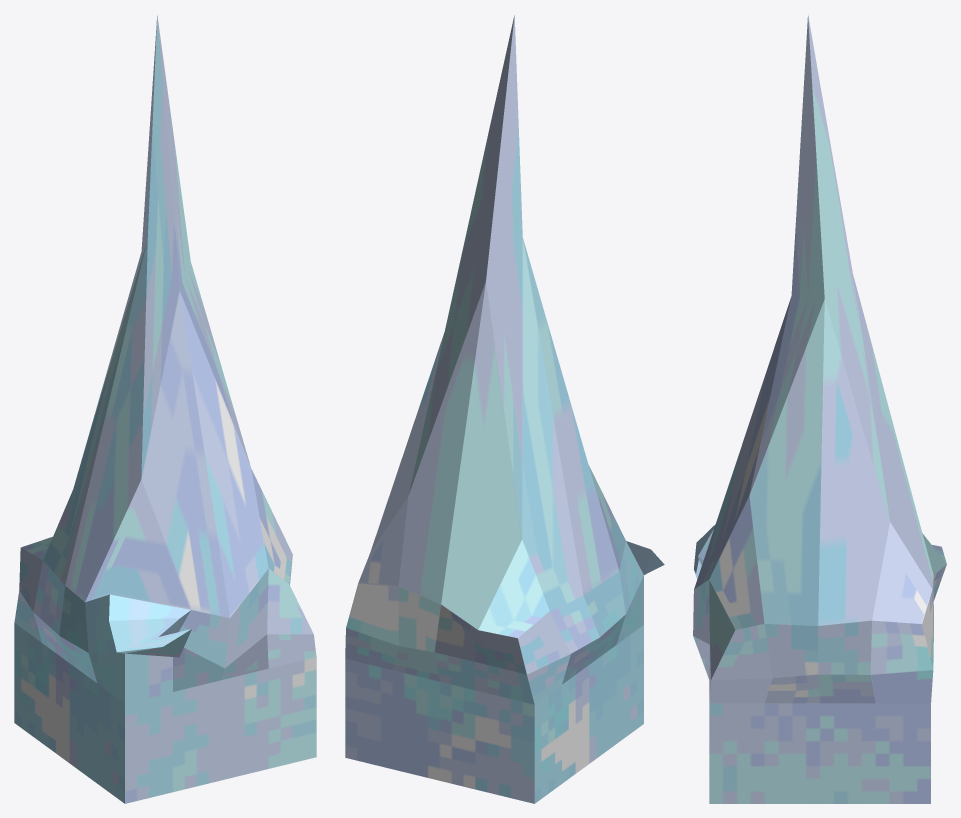
Rendered from SnolfIceSpike.fbx.
3 renders of one model, left to right at view 1: azimuth 30°, elevation 25°; view 2: azimuth 150°, elevation 25°; view 3: azimuth 270°, elevation 25°, orthographic.
Parts seen in each view (by area): view 1: Cube; view 2: Cube; view 3: Cube.
Part boxes in pixels (box(x1,y1,x2,y2)): Cube: box(14, 15, 316, 803); Cube: box(345, 15, 664, 803); Cube: box(693, 15, 946, 803).
Bounding box in the file's own units: 221 × 732 × 229.
